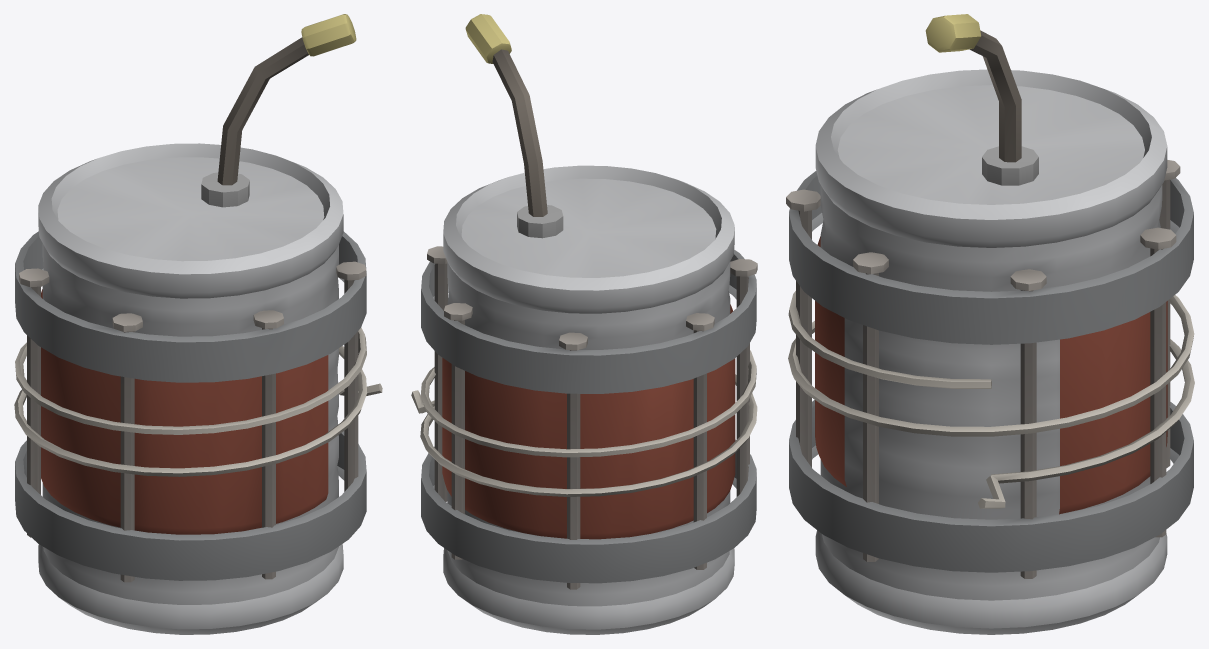
The model's file is tin-grenade.glb.
3 views of the same model, side by side, from view 1: azimuth 30°, elevation 25°; view 2: azimuth 150°, elevation 25°; view 3: azimuth 270°, elevation 25° (orthographic). The views are drawn at different scales.
Parts seen in each view (by area): view 1: Body_lod0; view 2: Body_lod0; view 3: Body_lod0.
Boxes of the visible parts, bbox=[...] form: Body_lod0: bbox=[14, 14, 382, 634]; Body_lod0: bbox=[411, 14, 757, 634]; Body_lod0: bbox=[786, 14, 1194, 634].
Size of what is drawn, in the model's own units: 0.0958 by 0.1455 by 0.0862.
